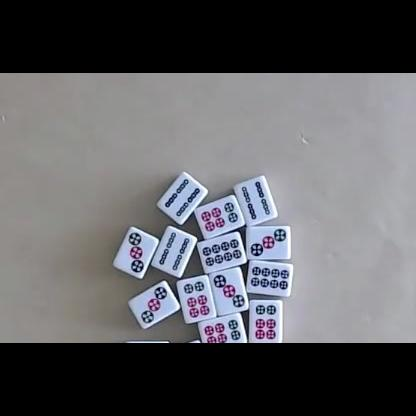3p: (250, 228, 287, 257), (214, 274, 245, 308), (141, 287, 167, 324), (128, 232, 145, 273)
4s: (165, 179, 200, 217), (159, 232, 190, 270), (242, 181, 271, 220)
6p: (200, 202, 238, 232), (184, 281, 210, 319), (203, 318, 241, 343), (255, 304, 277, 341)
8p: (202, 239, 242, 267), (250, 266, 289, 290)
